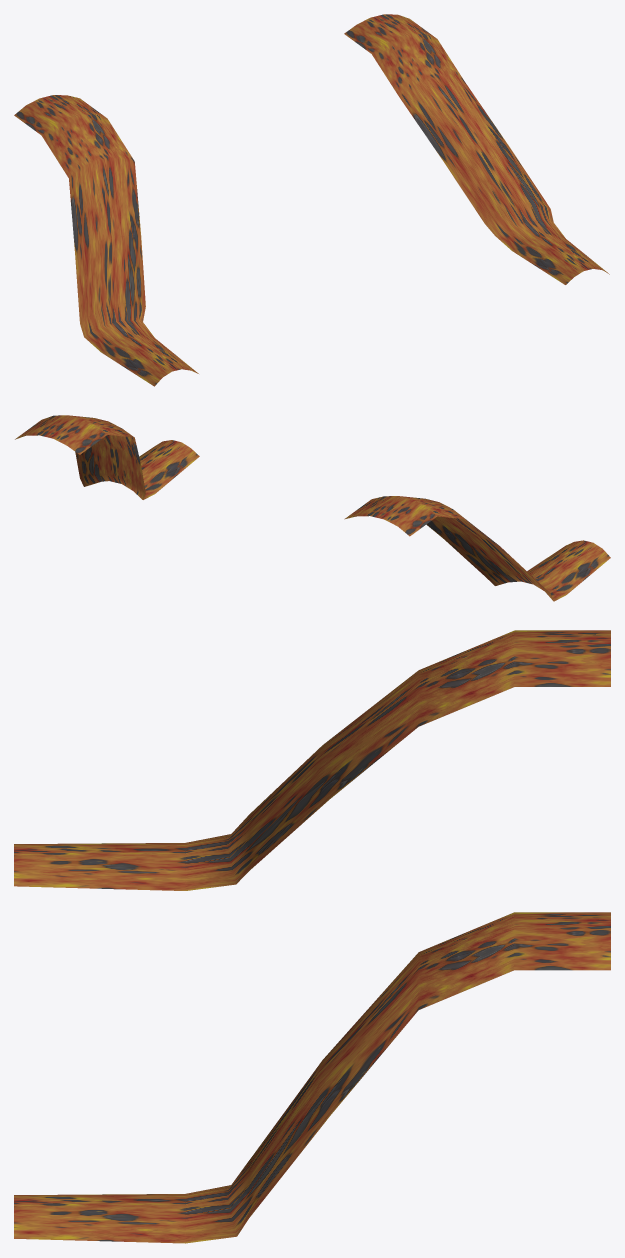
File: WaterfallsSide.fbx
3 renders of one model, top to bottom at view 1: azimuth 30°, elevation 25°; view 2: azimuth 150°, elevation 25°; view 3: azimuth 270°, elevation 25°, orthographic. The views are drawn at different scales.
Visible parts, largest first — view 1: WaterfallSide1, WaterfallSide2; view 2: WaterfallSide1, WaterfallSide2; view 3: WaterfallSide2, WaterfallSide1.
Part boxes in pixels (box(x1,y1,x2,y2)): WaterfallSide1: box(14, 95, 198, 386); WaterfallSide2: box(344, 14, 609, 284); WaterfallSide1: box(344, 496, 610, 601); WaterfallSide2: box(15, 415, 199, 499); WaterfallSide2: box(14, 912, 610, 1243); WaterfallSide1: box(14, 630, 610, 890).
Size of the model in its own units: 29.01 by 8.85 by 18.23.
